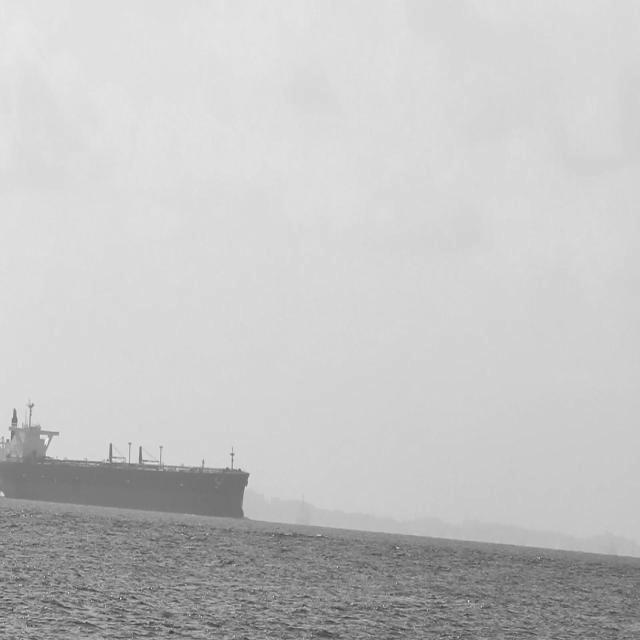ship: (0, 401, 261, 506)
